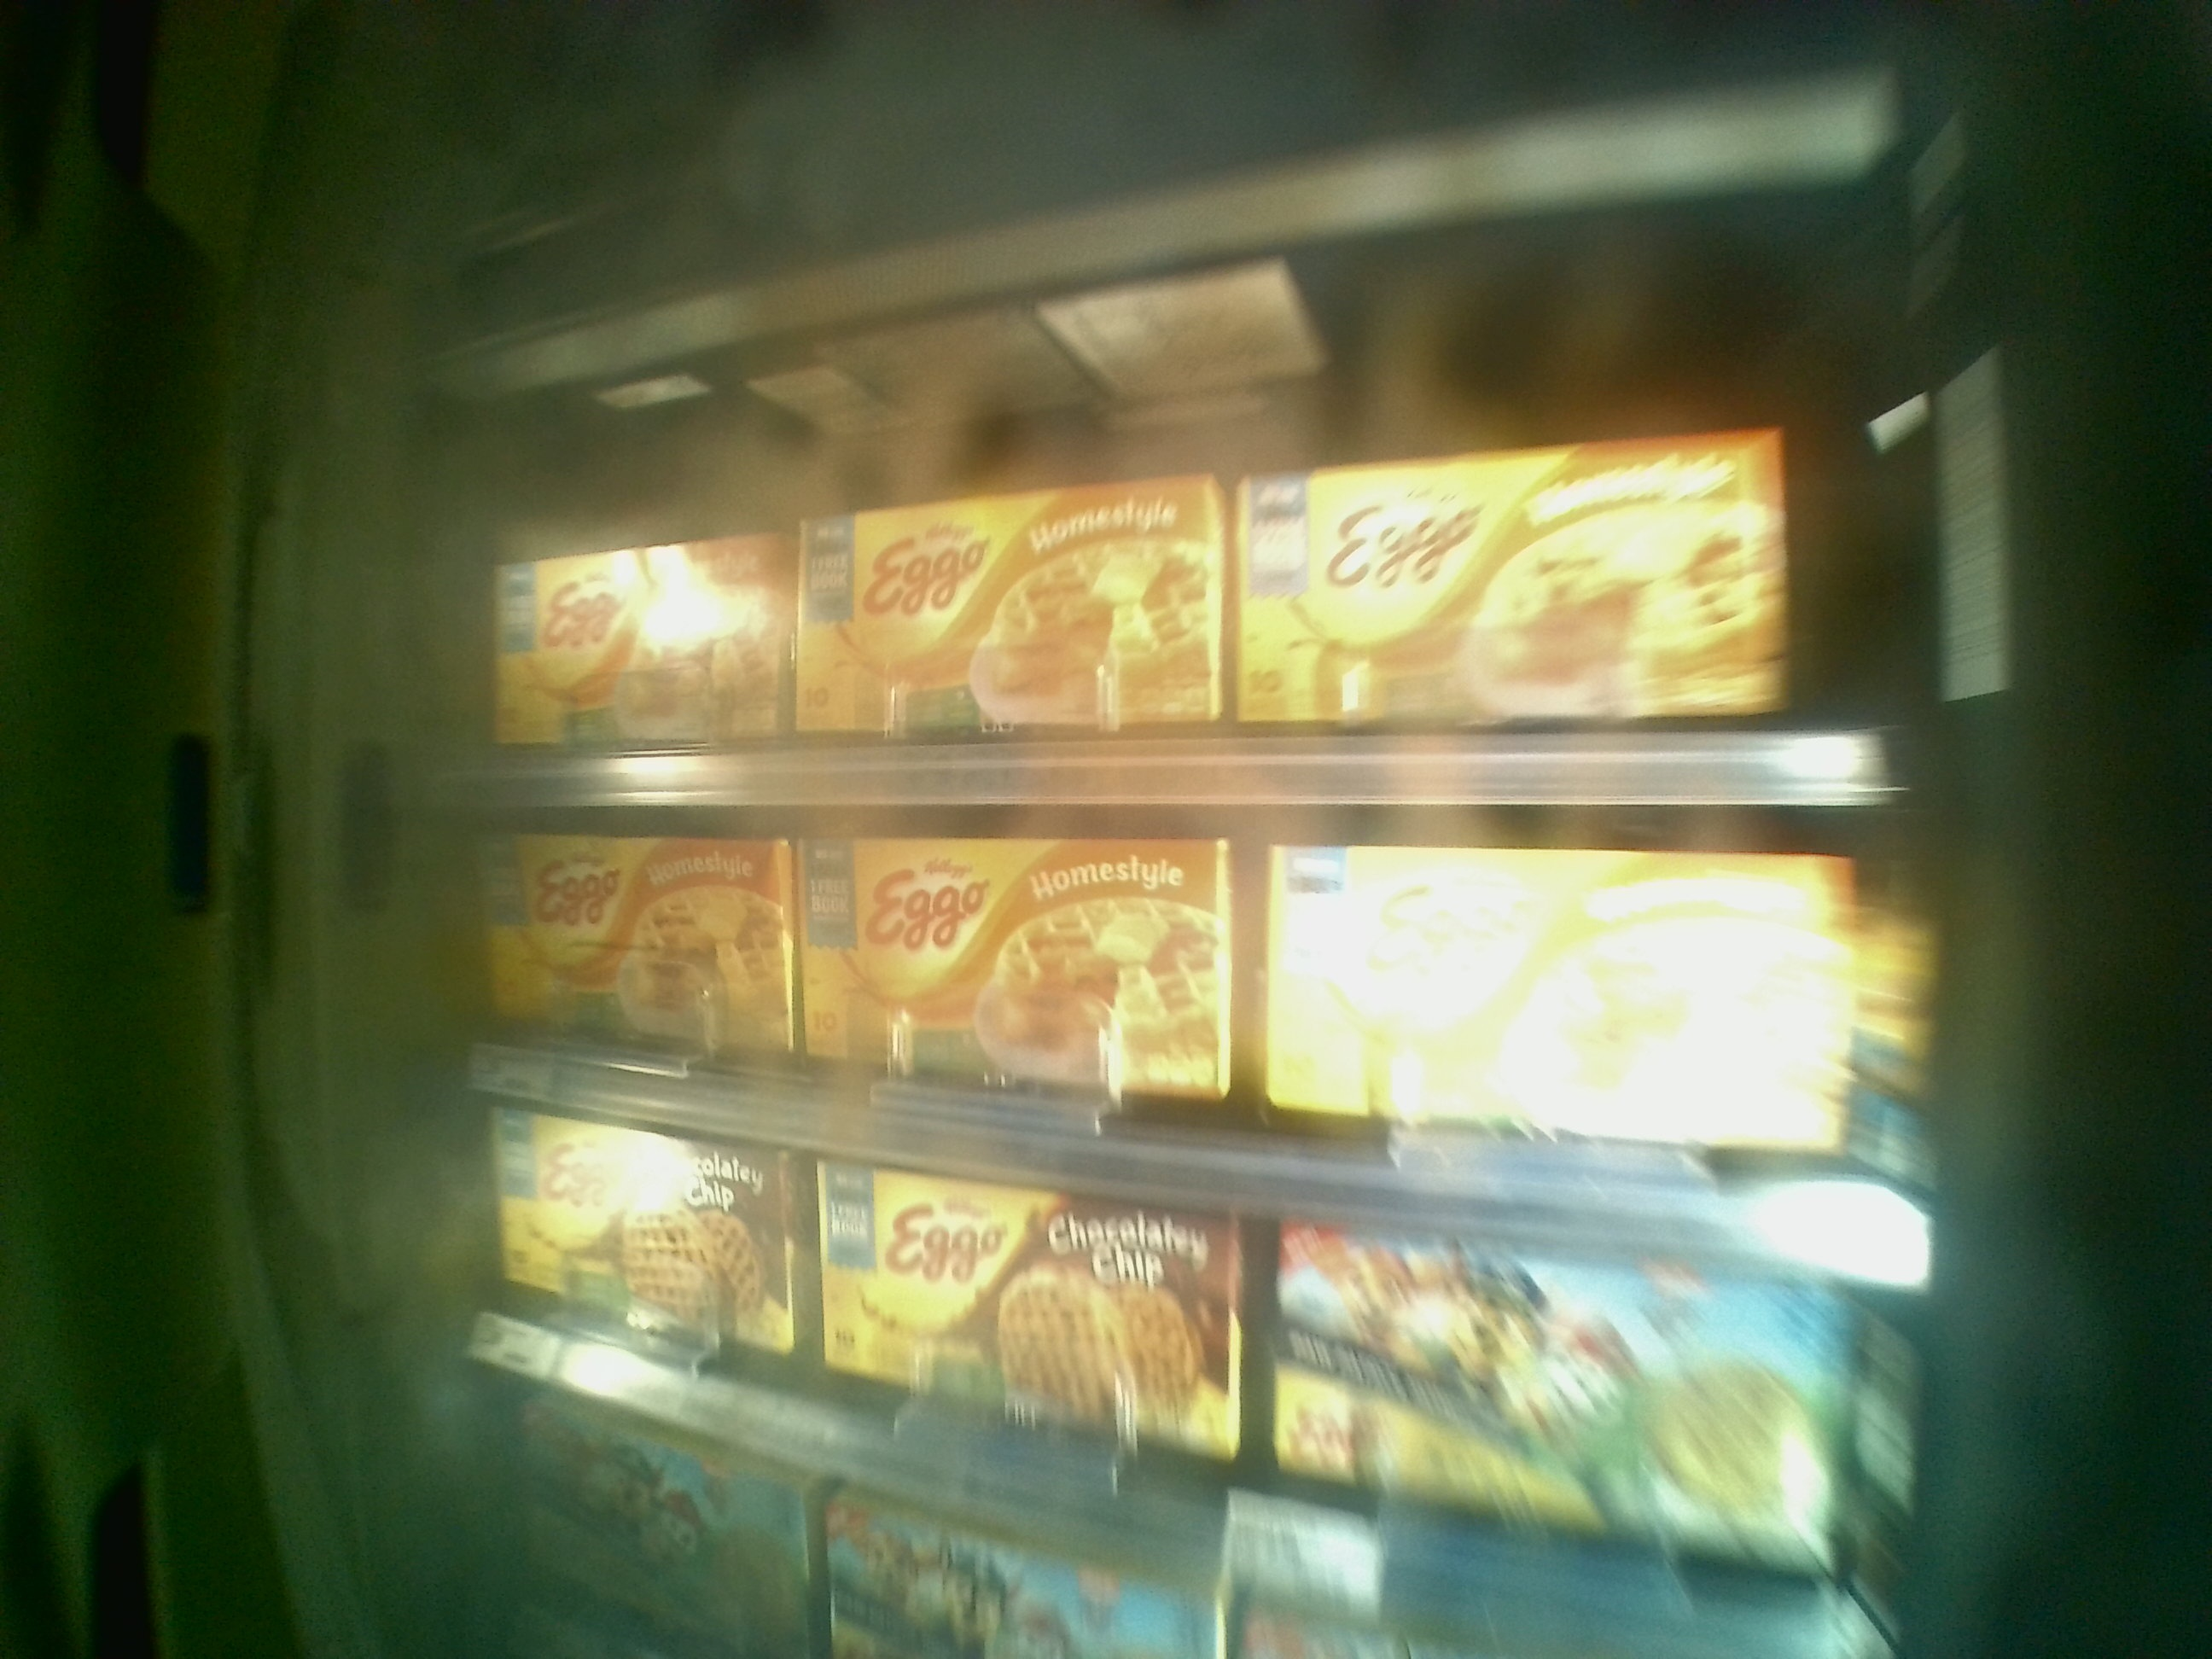shelf: (446, 169, 1911, 812), (446, 814, 1919, 1276)
